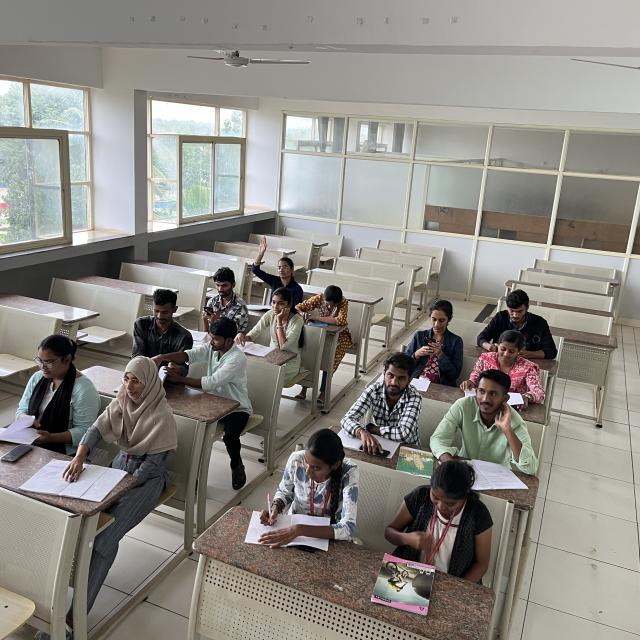Hand Rising: (247, 232, 307, 300)
Reading: (384, 462, 494, 578), (1, 326, 91, 448), (457, 330, 539, 399)
Using Phone: (394, 296, 472, 385), (194, 262, 251, 325)
Writing: (61, 353, 175, 492), (252, 427, 357, 537)
